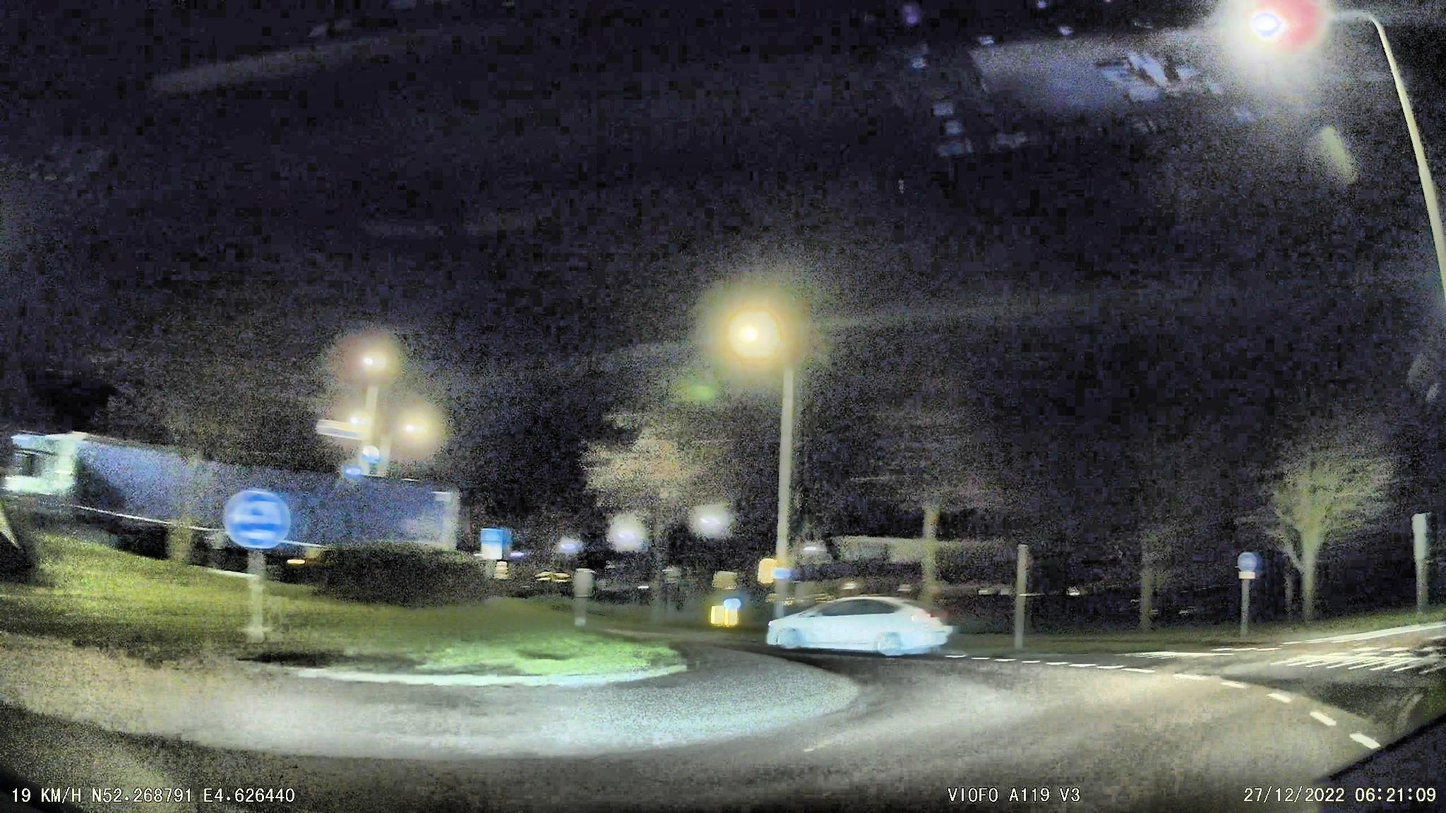Roads: (0, 642, 1446, 813)
